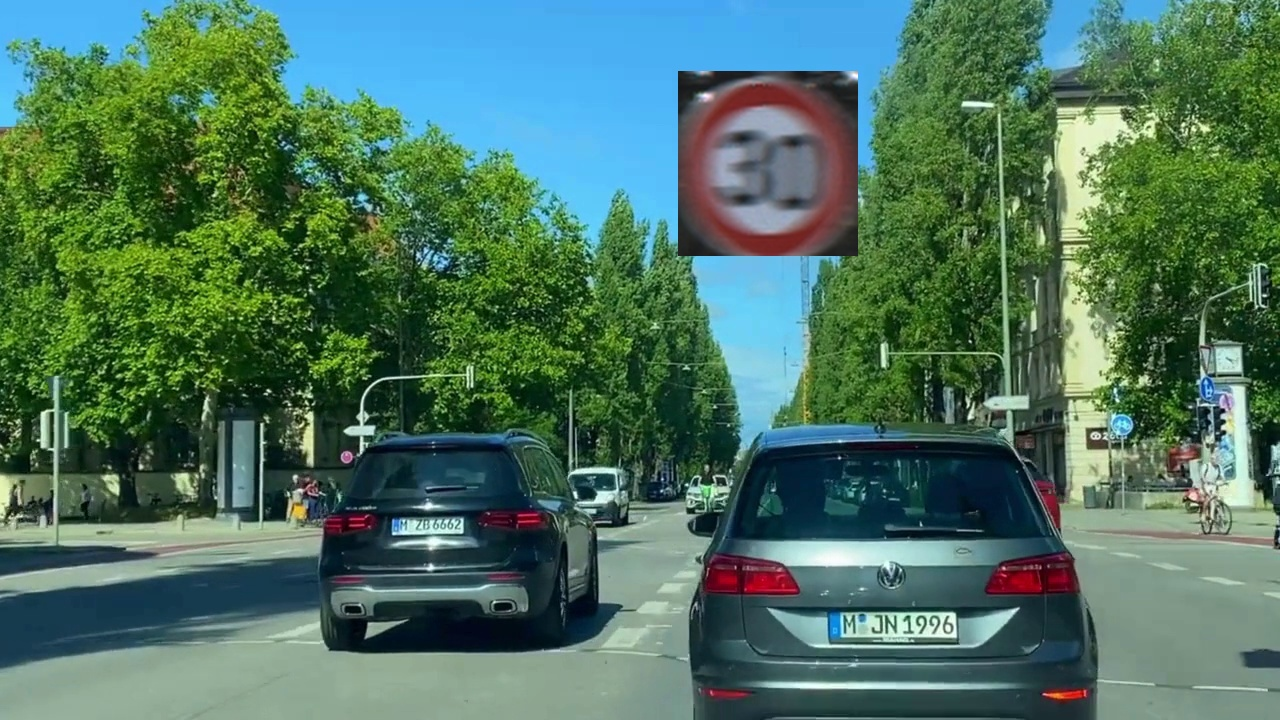Speed 30: (678, 71, 858, 256)
